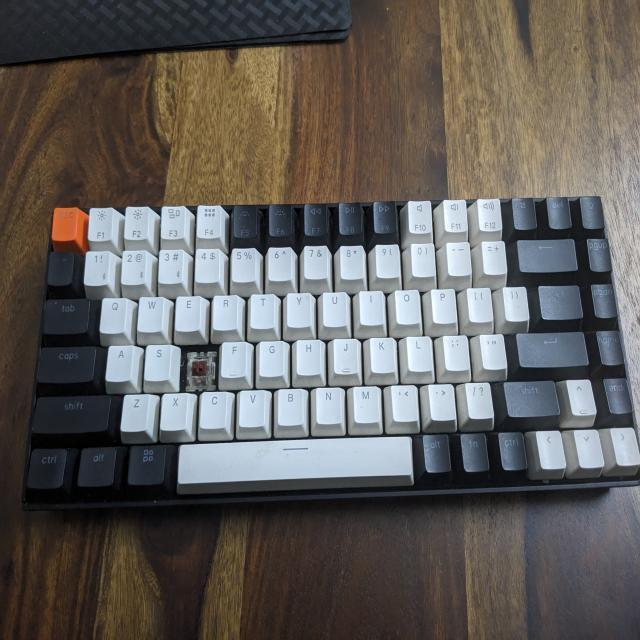key-switch: (183, 350, 219, 393)
